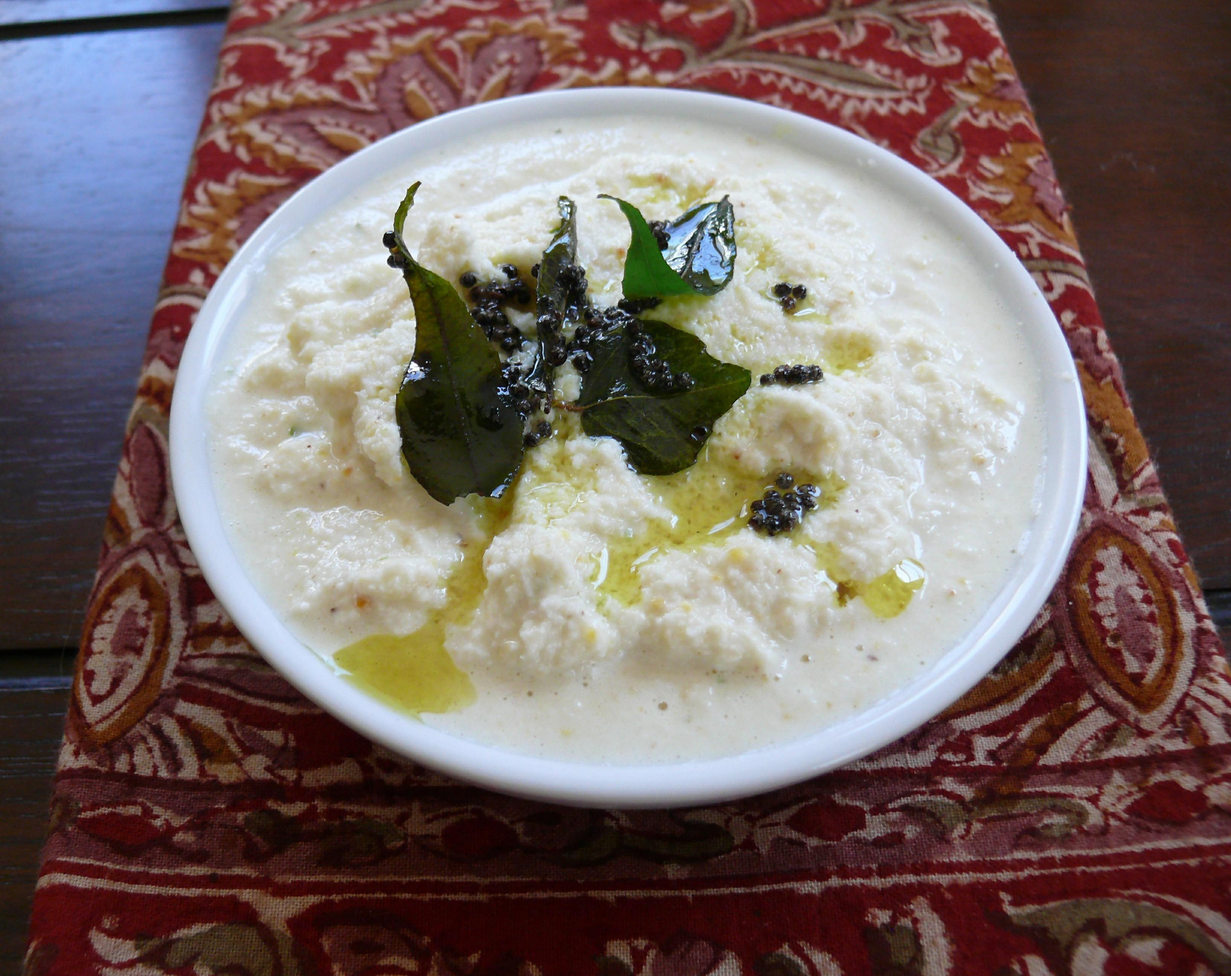CoconutChutney: (213, 121, 1047, 761)
